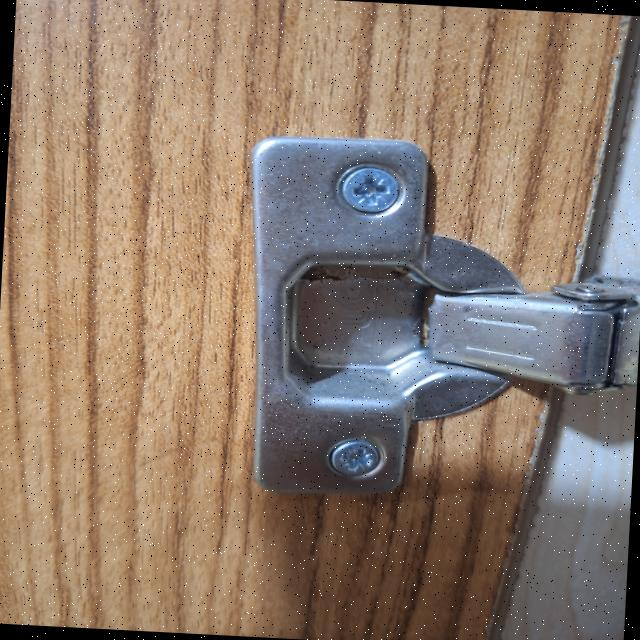Pozidriv: (337, 165, 405, 218), (326, 441, 384, 479)
